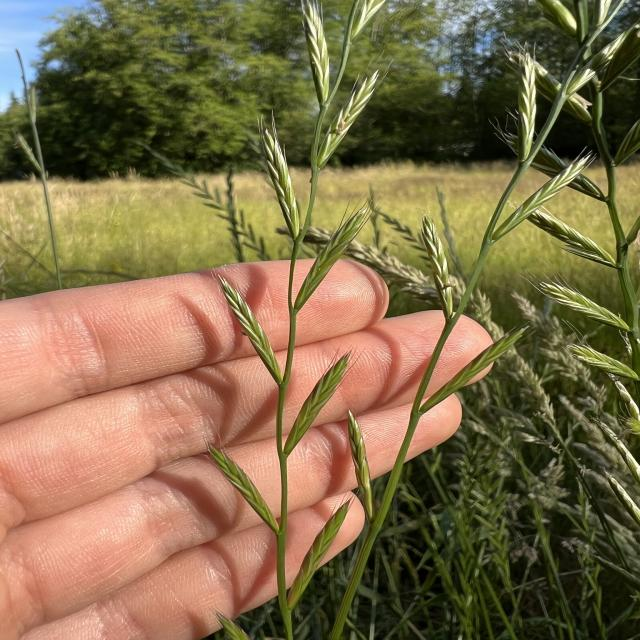Lolium: (361, 4, 627, 544), (200, 2, 411, 638)
